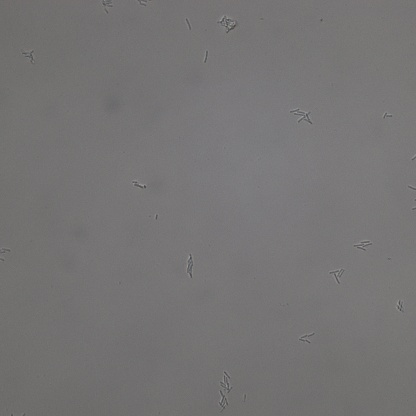R(colony): (290, 107, 313, 124), (220, 370, 233, 392), (329, 268, 344, 286), (353, 238, 372, 251), (298, 332, 317, 345), (217, 394, 229, 412)
